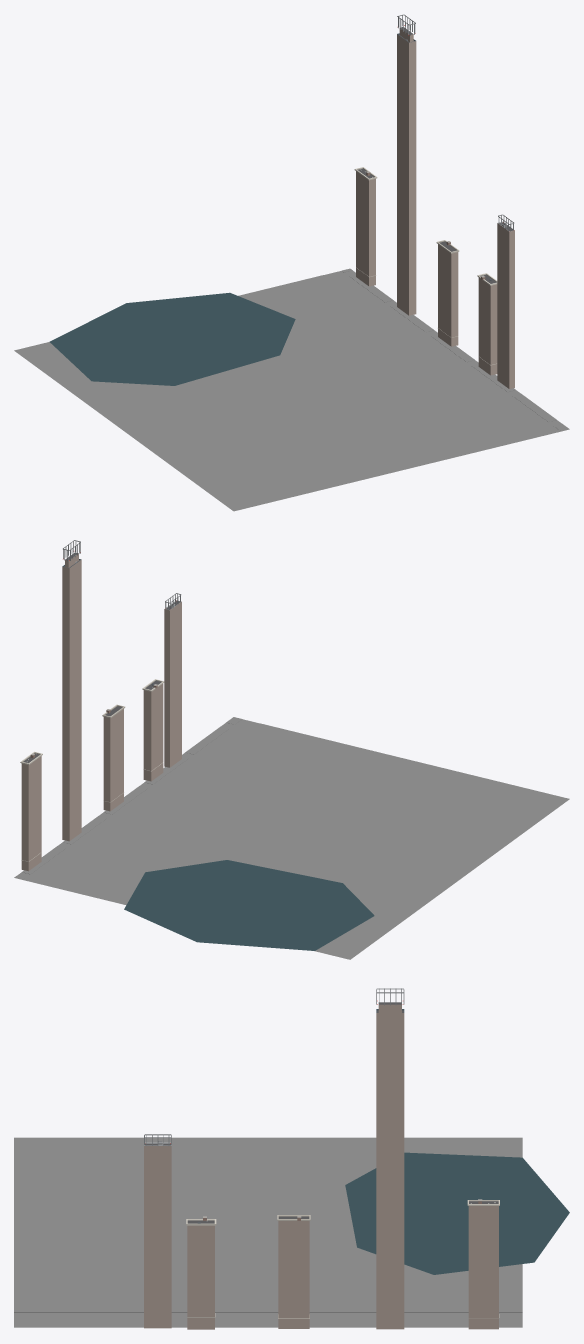
The picture shows the model from 3 angles, top to bottom: view 1: azimuth 30°, elevation 25°; view 2: azimuth 150°, elevation 25°; view 3: azimuth 270°, elevation 25°; orthographic projection. The views are drawn at different scales.
Visible parts, largest first — view 1: t21_ground, lake_water, t21_facade; view 2: t21_ground, lake_water, t21_facade, t21_roof; view 3: t21_ground, t21_facade, lake_water, t21_roof, t21_detail.
Boxes of the visible parts, x1,y1,x2,y2 form: t21_ground: (14, 268, 569, 511); lake_water: (49, 292, 295, 385); t21_facade: (356, 28, 514, 388); t21_ground: (14, 717, 569, 959); lake_water: (124, 860, 374, 950); t21_facade: (21, 553, 181, 871); t21_roof: (23, 540, 181, 763); t21_ground: (14, 1137, 522, 1327); t21_facade: (144, 1004, 498, 1329); lake_water: (345, 1152, 569, 1274); t21_roof: (144, 988, 498, 1223); t21_detail: (144, 1009, 499, 1318).
Bounding box in the file's own units: 385 × 314 × 470.
